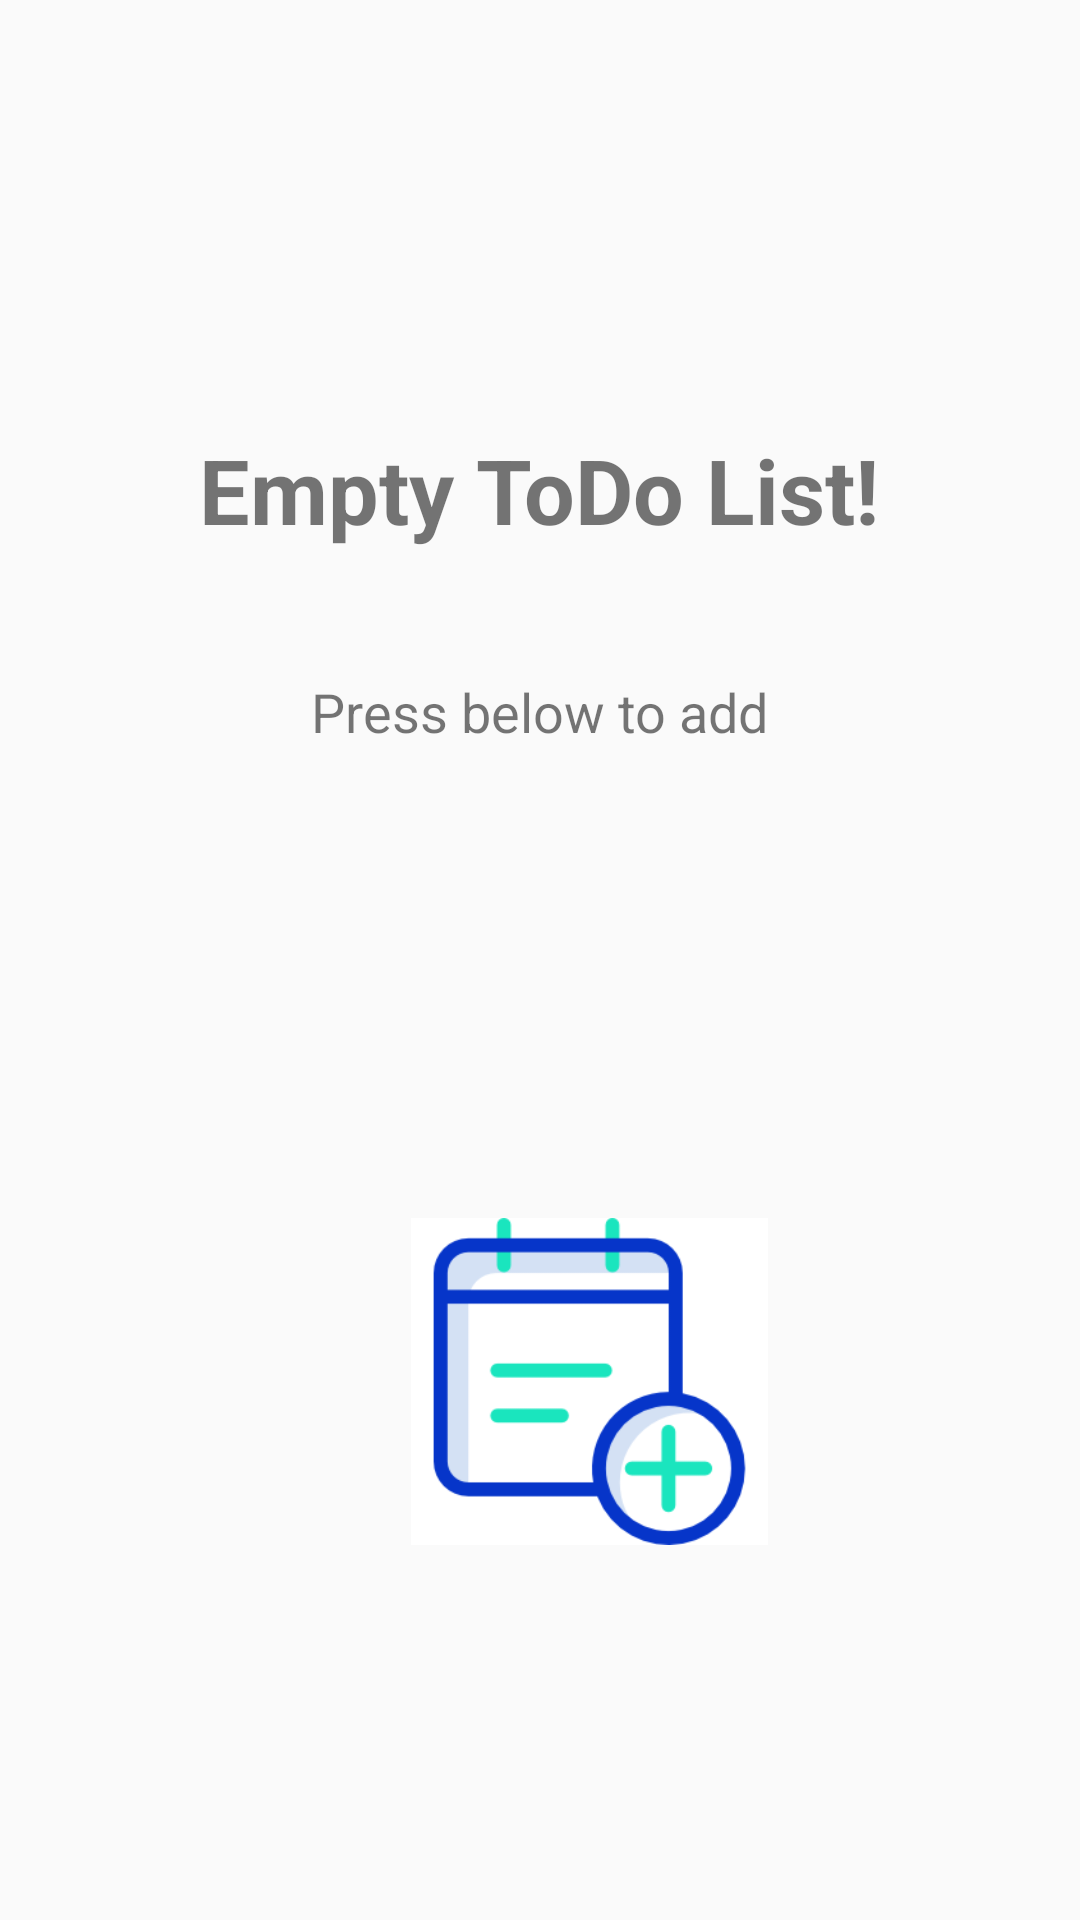

Locate icon controls on the screen. Image size 1080px x 1920px, boxes as (x1, y1, x2, y2).
todo plus: (433, 1218, 746, 1545)
